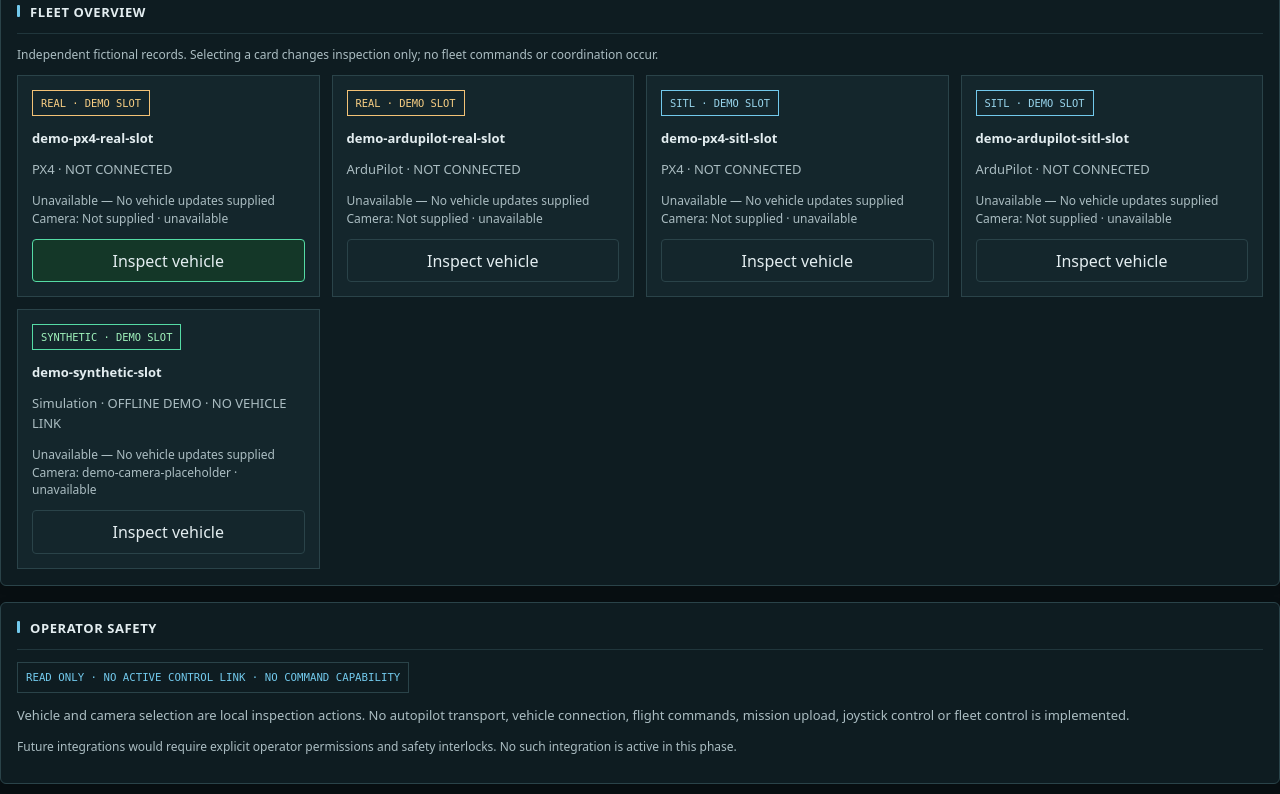
Test case: uses camera placeholders with no media URLs and switches only supplied camera identity
(page scrolled)
Click the button "Inspect vehicle" below "demo-camera-placeholder".
click(168, 532)  # box [32, 510, 304, 554]
(page scrolled)
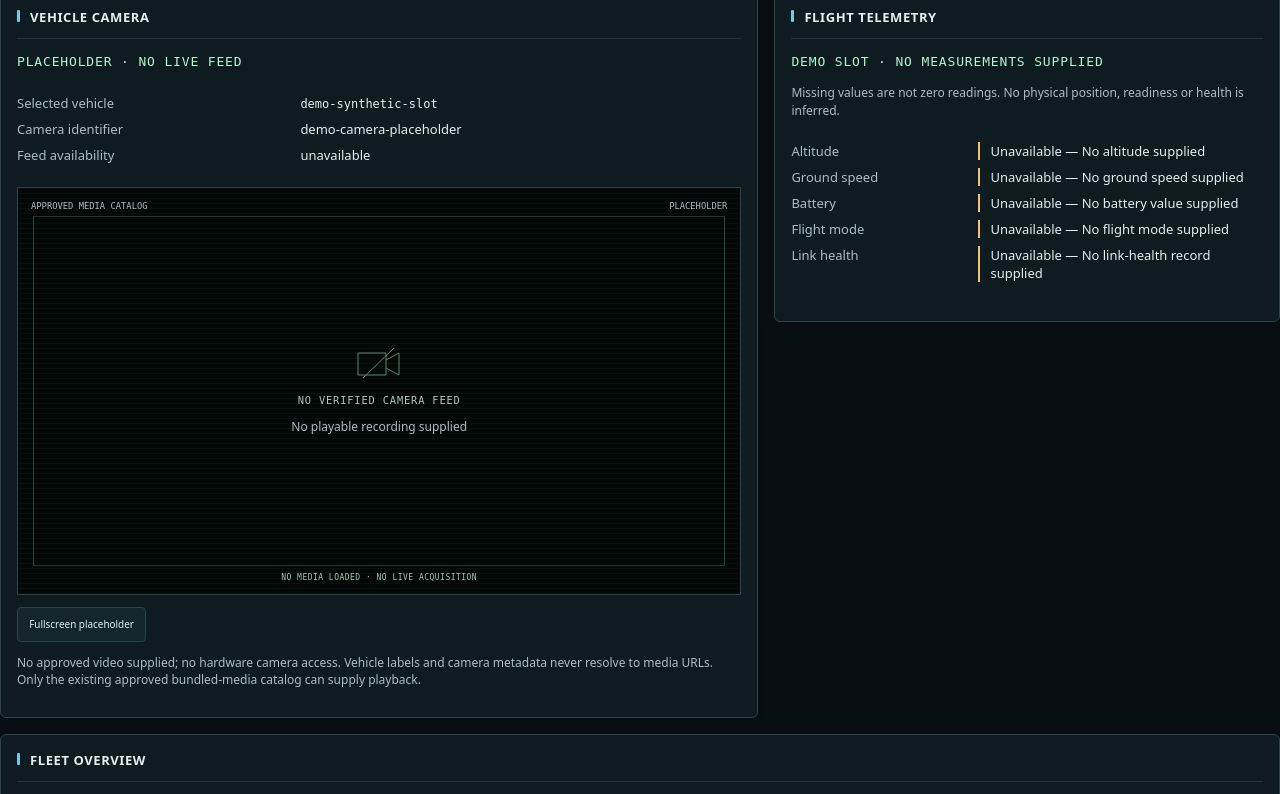
Expected: the text "NO VERIFIED CAMERA FEED" is shown, [298, 394, 461, 406]
Expected: the text "demo-camera-placeholder" is shown, [300, 120, 462, 138]
